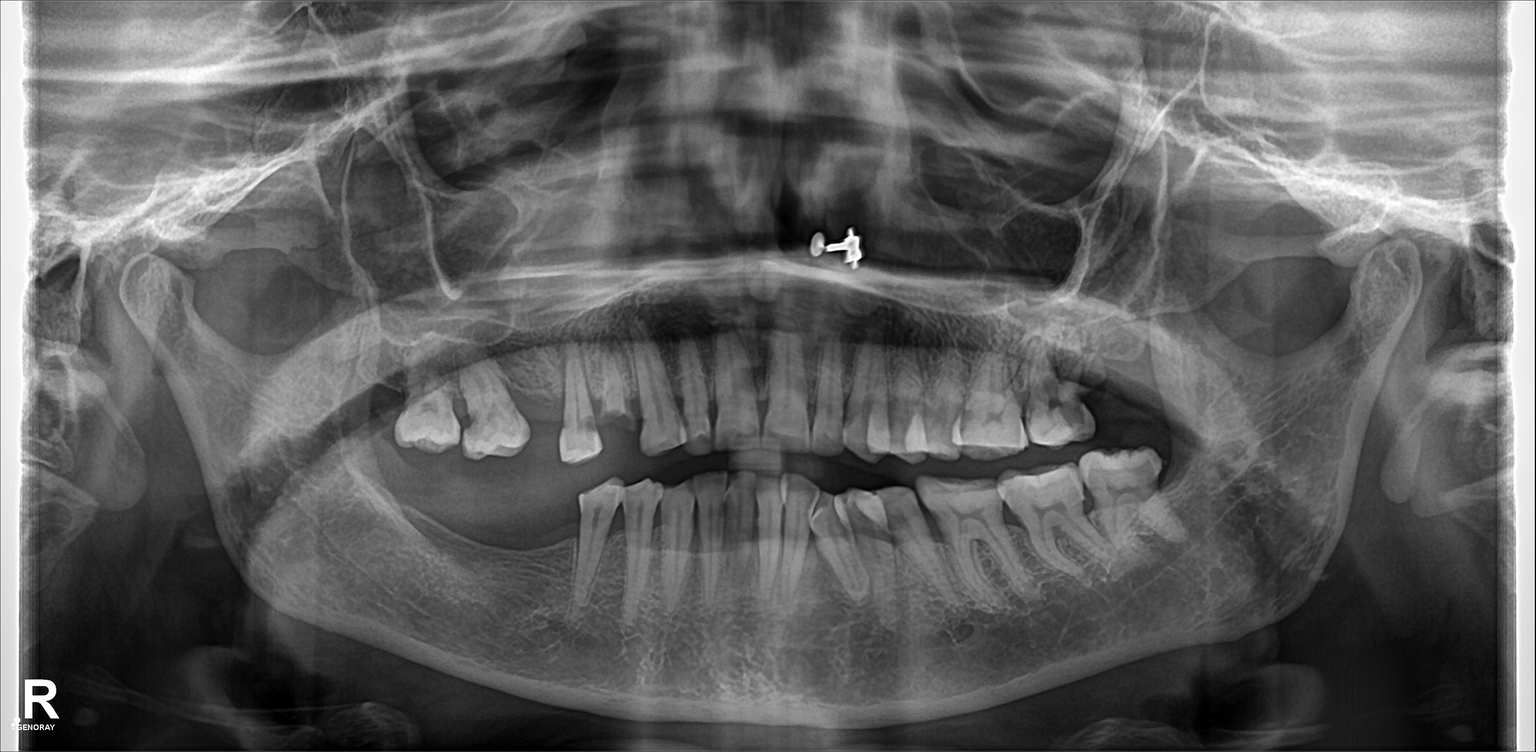Dental Caries: (1043, 389, 1089, 432)
Missing Tooth: (350, 484, 402, 591), (456, 490, 502, 599), (365, 346, 411, 444), (516, 361, 562, 445), (1095, 344, 1138, 423), (542, 501, 577, 591), (410, 486, 442, 578), (516, 495, 539, 596)
Retained Root: (592, 361, 635, 448)
